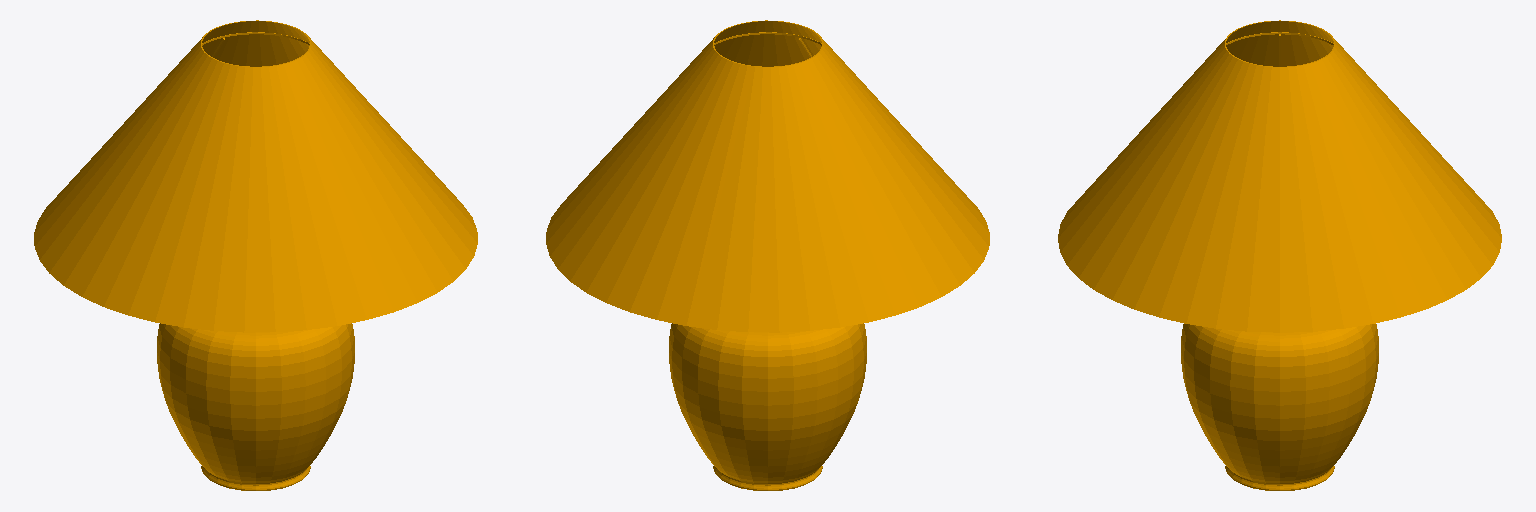
The robot description file, URDF, robot "nightlamp":
<robot name="nightlamp">
  <link name="nightlamp">
    <inertial>
      <origin xyz="0 0 0.0145"/>
      <mass value="0.1" />
      <inertia  ixx="0.0001" ixy="0.0"  ixz="0.0"  iyy="0.0001"  iyz="0.0"  izz="0.0001" />
    </inertial>
    <visual>
      <origin xyz="0 0 0.0145"/>
      <geometry>        
     <mesh filename="nightlamp.dae" scale="1 1 1"/>
    </geometry>
    </visual>
    <collision>
      <origin xyz="0 0 0.0145"/>
      <geometry>
        <box size="0.029 0.029 0.029"/>
      </geometry>
    </collision>
  </link>
  <gazebo reference="nightlamp">
    <material>Gazebo/Blue</material>
  </gazebo>
</robot>

--- Render facts (derived) ---
3 views of the same robot in one strip: view 1: azimuth 30°, elevation 25°; view 2: azimuth 150°, elevation 25°; view 3: azimuth 270°, elevation 25° (orthographic).
Model nightlamp with 1 links and 0 joints (none), rooted at nightlamp, posed all joints at 0.
Links seen in each view (by area): view 1: nightlamp; view 2: nightlamp; view 3: nightlamp.
Link boxes in pixels (x1,y1,x2,y2): nightlamp: (34, 20, 477, 490); nightlamp: (546, 20, 989, 490); nightlamp: (1058, 20, 1501, 490).
Size in the robot's own frame: 0.3271 by 0.3271 by 0.3451 metres.
Meshes: 1 distinct files referenced, 1 mesh visuals loaded (1 Collada DAE).